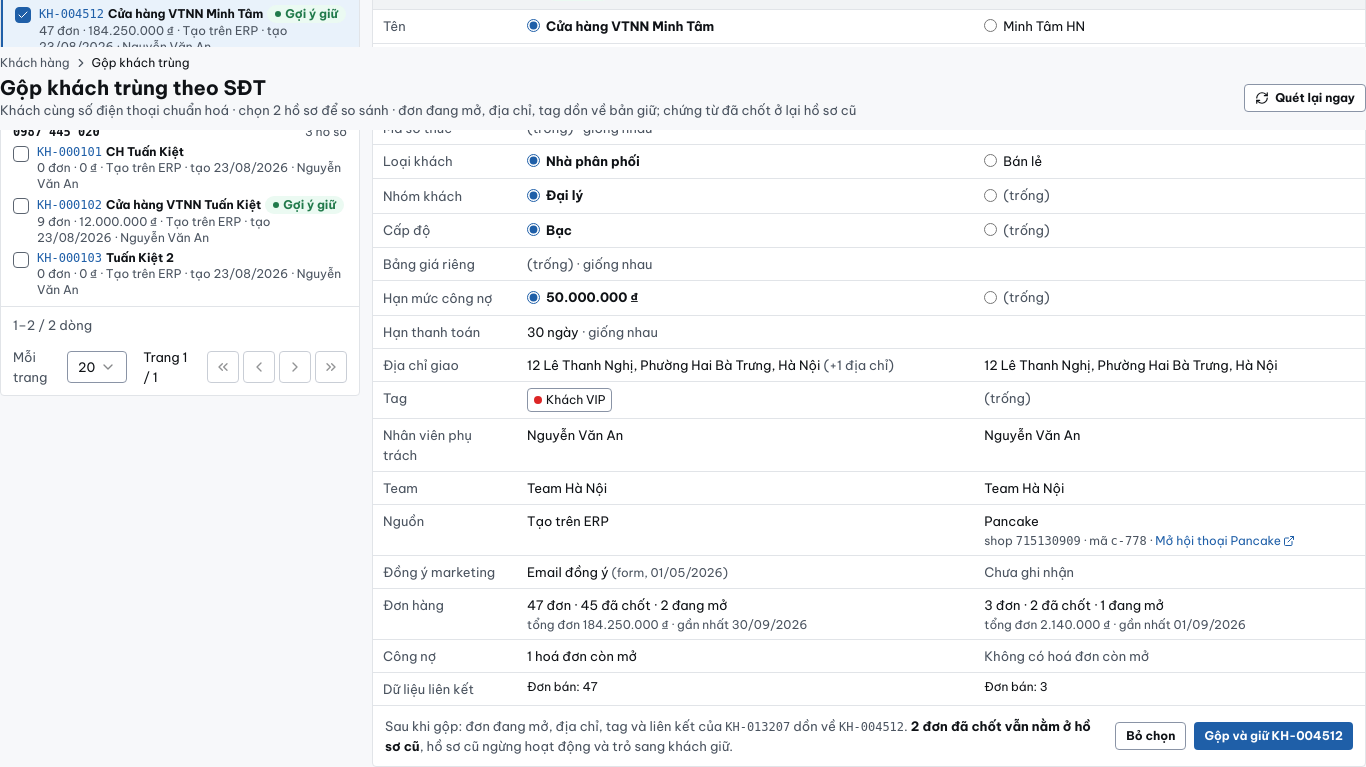
Test: Gộp khách trùng — so sánh + gộp (CRM-10) › PHONE_MISMATCH → xác nhận lần hai → gửi force:true với key mới
This screenshot has width=1366, height=767.
(page scrolled)
Click the button "Gộp và giữ KH-004512" at (1274, 736), box [1194,722,1353,750]
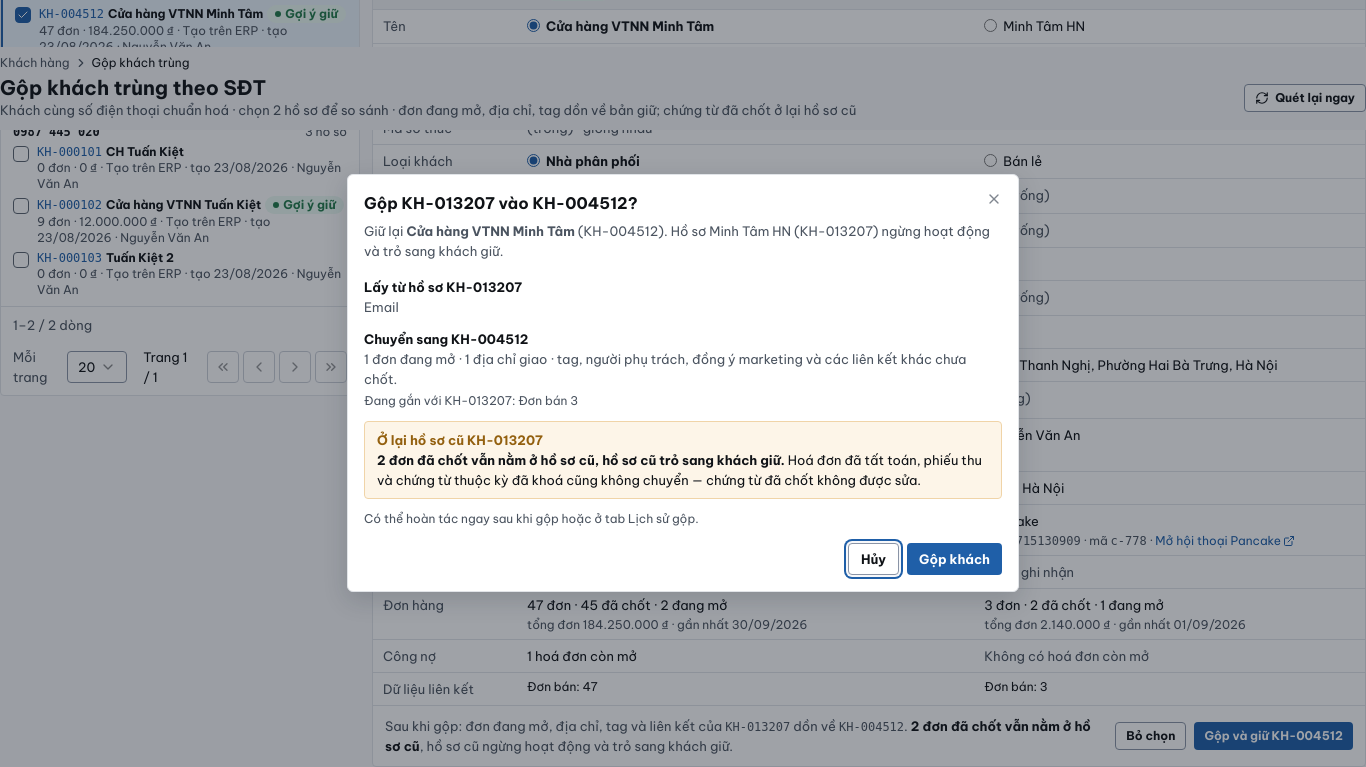
Click the button "Gộp khách" at (955, 559), box [907,543,1002,575]
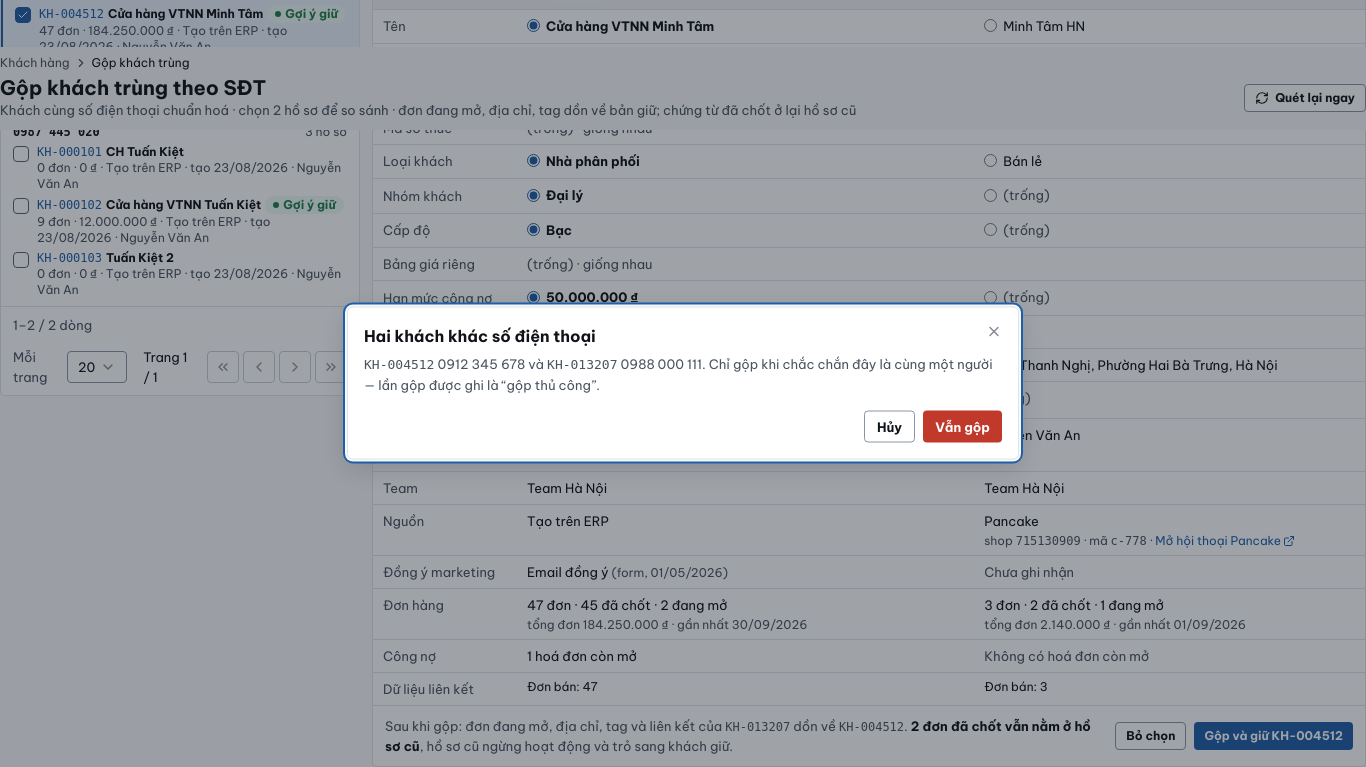
Expected: the heading "Hai khách khác số điện thoại" is shown, [364,326,596,346]
Expected: the text "0988 000 111" is shown, [620,356,702,372]
Click the button "Vẫn gộp" at (963, 426), box [923,410,1002,442]
(page scrolled)
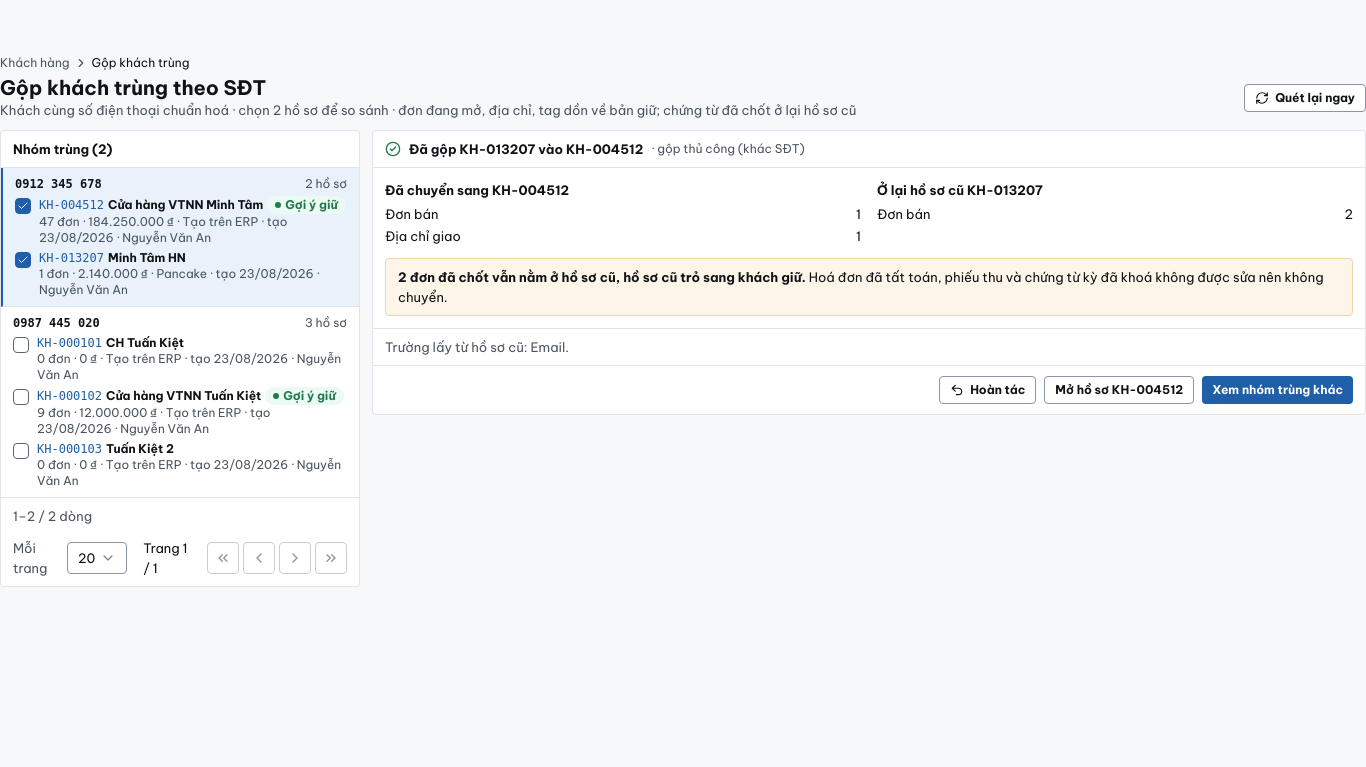
Expected: the text "· gộp thủ công (khác SĐT)" is shown, [651,141,805,157]
